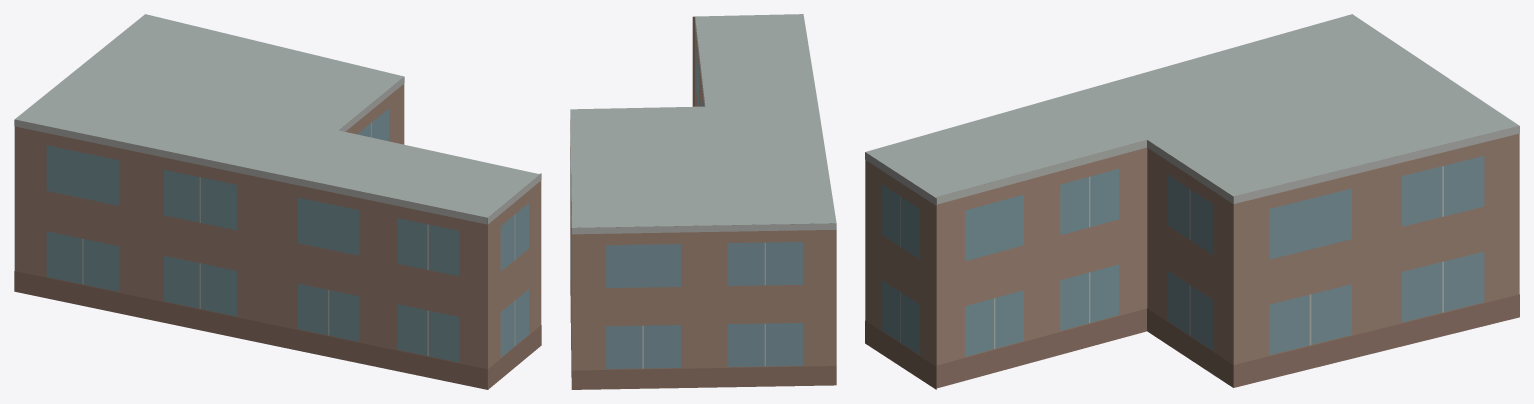
File: survey-upis-32912098.glb
The picture shows the model from 3 angles, left to right: view 1: azimuth 30°, elevation 25°; view 2: azimuth 150°, elevation 25°; view 3: azimuth 270°, elevation 25°; orthographic projection. The views are drawn at different scales.
Visible parts, largest first — view 1: survey-upis-32912098.tmp; view 2: survey-upis-32912098.tmp; view 3: survey-upis-32912098.tmp.
Part boxes in pixels (bbox=[...]): survey-upis-32912098.tmp: bbox=[14, 14, 541, 389]; survey-upis-32912098.tmp: bbox=[570, 14, 836, 389]; survey-upis-32912098.tmp: bbox=[865, 14, 1519, 389].
Size of the model in its own units: 12.62 by 6.1 by 18.92.
